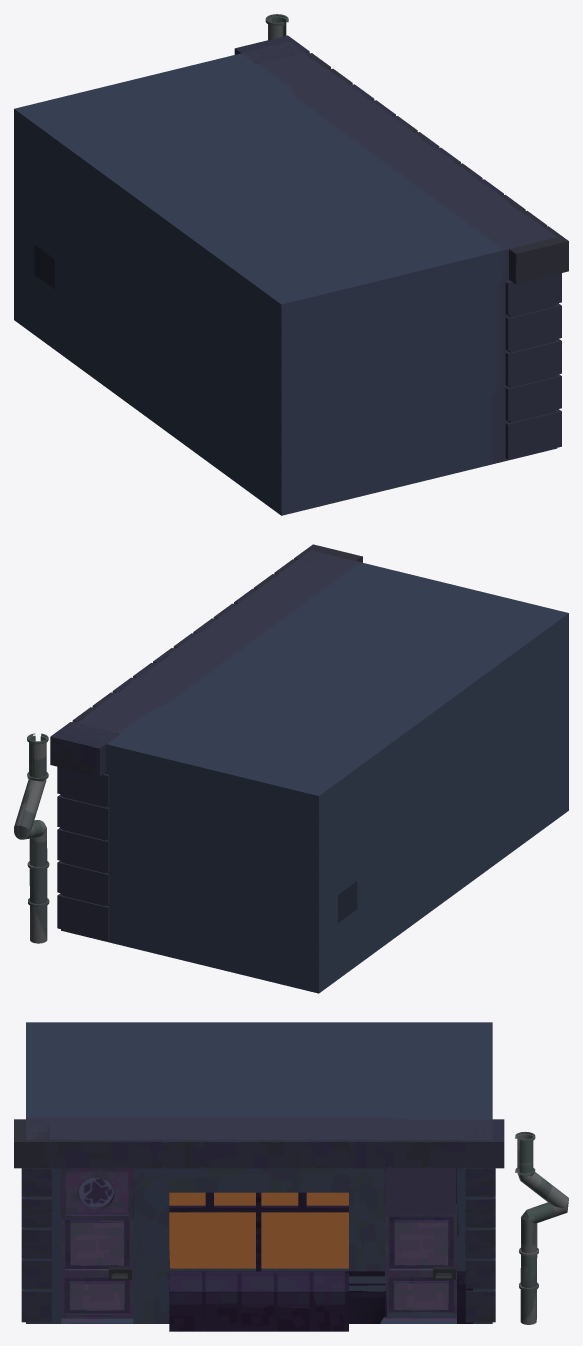
The model's file is Batiment1_rdc_sansEscalier.fbx.
The picture shows the model from 3 angles, top to bottom: view 1: azimuth 30°, elevation 25°; view 2: azimuth 150°, elevation 25°; view 3: azimuth 270°, elevation 25°; orthographic projection. The views are drawn at different scales.
Visible parts, largest first — view 1: Cube.013; view 2: Cube.013; view 3: Cube.013.
Part boxes in pixels (x1=…): Cube.013: x1=14, y1=14, x2=568, y2=515; Cube.013: x1=14, y1=544, x2=568, y2=993; Cube.013: x1=14, y1=1022, x2=568, y2=1331.
Bounding box in the file's own units: 436 × 311 × 819.
2 materials, 1 textured.
